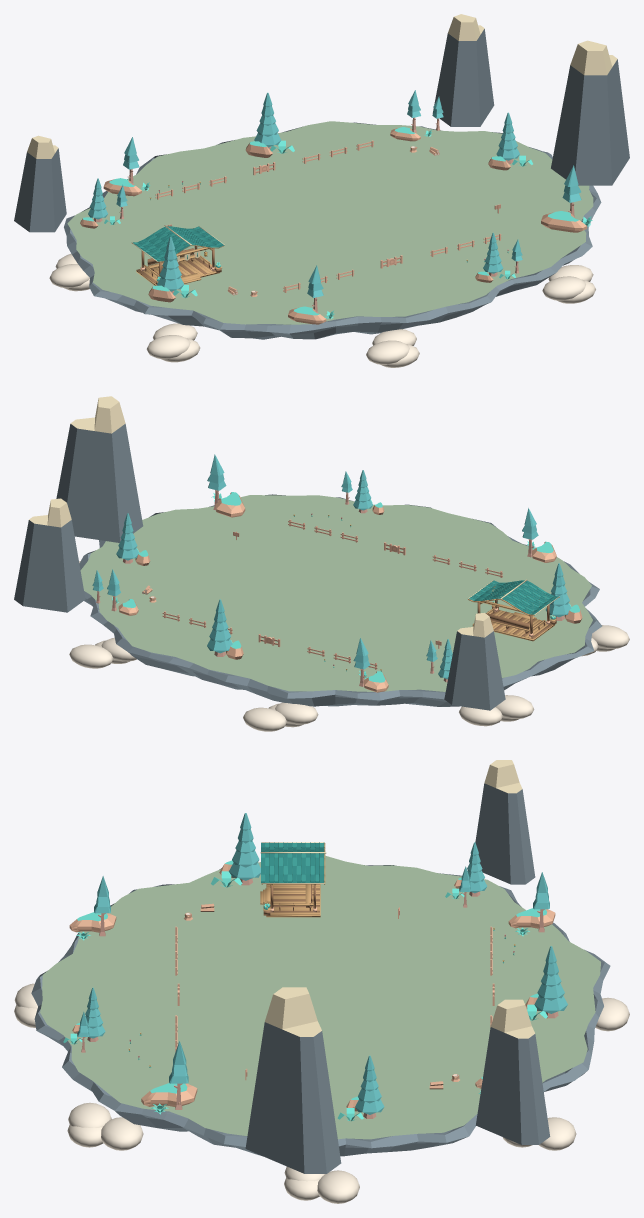
File: mountain.glb
3 renders of one model, top to bottom at view 1: azimuth 30°, elevation 25°; view 2: azimuth 150°, elevation 25°; view 3: azimuth 270°, elevation 25°, orthographic. The views are drawn at different scales.
Visible parts, largest first — view 1: Surface_mountain.006, Scenery_mountain.006; view 2: Surface_mountain.006, Scenery_mountain.006; view 3: Surface_mountain.006, Scenery_mountain.006.
Boxes of the visible parts, <box> form: Surface_mountain.006: <box>64,121,601,339</box>; Scenery_mountain.006: <box>14,14,629,367</box>; Surface_mountain.006: <box>79,494,602,706</box>; Scenery_mountain.006: <box>14,396,629,731</box>; Surface_mountain.006: <box>31,855,610,1156</box>; Scenery_mountain.006: <box>14,760,629,1203</box>.
Size of the model in its own units: 80.67 by 26.31 by 64.53.
